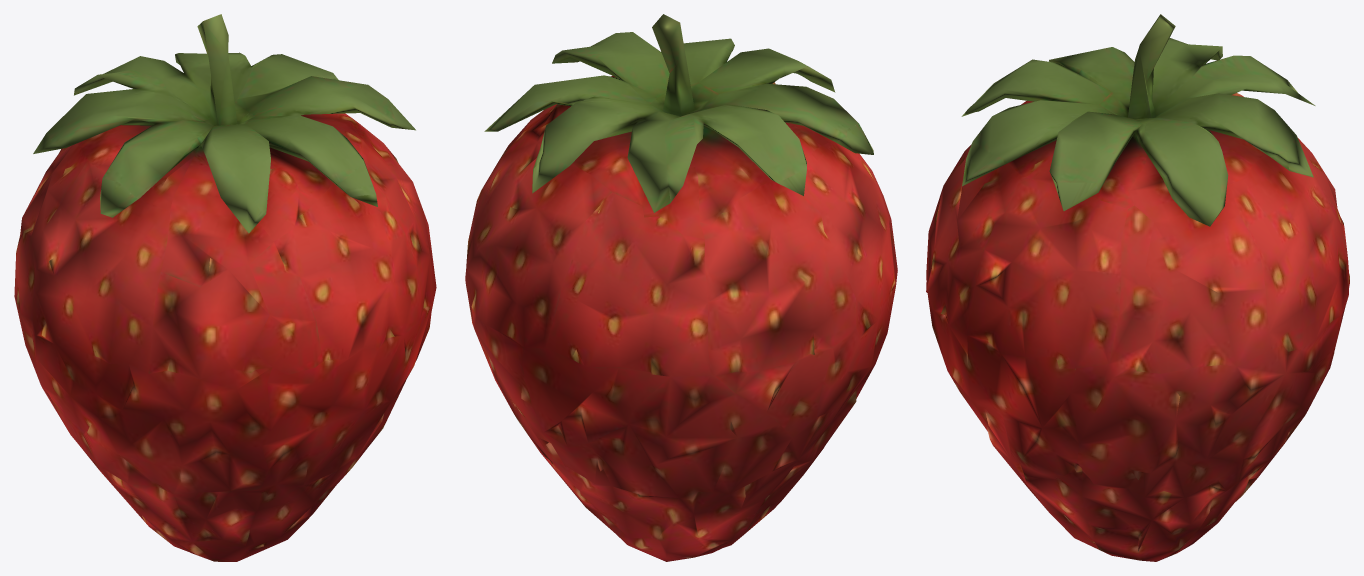
Rendered from berry_lo.glb.
3 views of the same model, side by side, from view 1: azimuth 30°, elevation 25°; view 2: azimuth 150°, elevation 25°; view 3: azimuth 270°, elevation 25° (orthographic). The views are drawn at different scales.
Visible parts, largest first — view 1: tripo_node_f1f5c926-8c9c-4db0-8743-9228ea2f41c9; view 2: tripo_node_f1f5c926-8c9c-4db0-8743-9228ea2f41c9; view 3: tripo_node_f1f5c926-8c9c-4db0-8743-9228ea2f41c9.
Boxes of the visible parts, box(x1,y1,x2,y2) form: tripo_node_f1f5c926-8c9c-4db0-8743-9228ea2f41c9: box(14, 14, 436, 561); tripo_node_f1f5c926-8c9c-4db0-8743-9228ea2f41c9: box(465, 14, 897, 561); tripo_node_f1f5c926-8c9c-4db0-8743-9228ea2f41c9: box(926, 14, 1349, 561).
Bounding box in the file's own units: 0.7176 × 0.9959 × 0.7121.
1 material, 1 textured.
